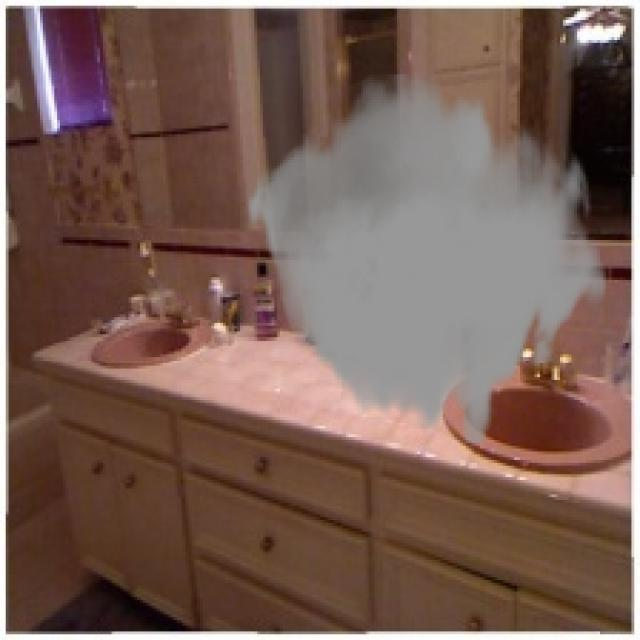Smoke: (246, 74, 608, 443)
